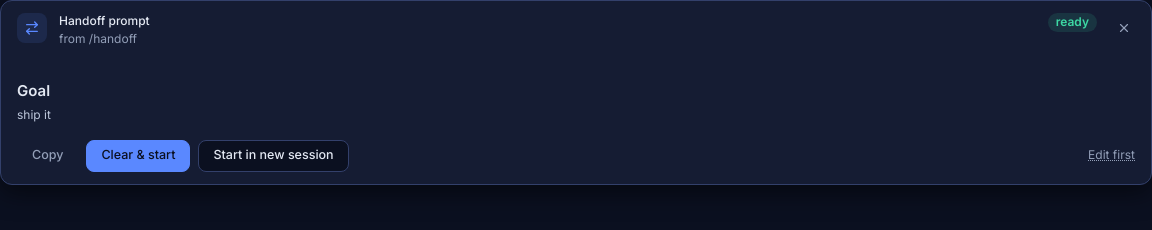
Test case: HandoffCardView › a branch whose window never shows up reports it instead of doing nothing
Click the button "Start in new session". click: (274, 156)
box: [198,140,349,172]
Wait 2000 ms
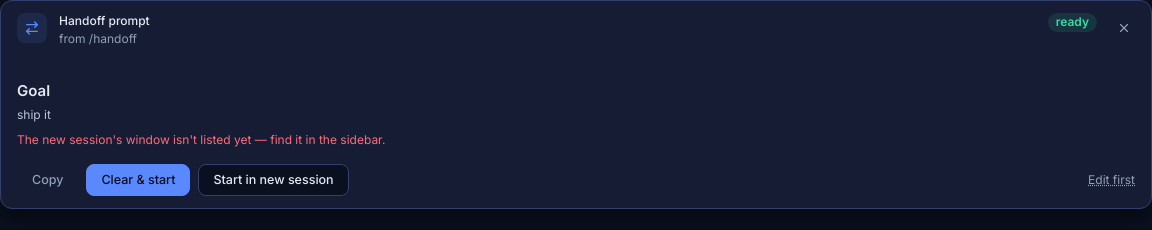
Now the message with test id "handoff-notice" shows "isn't listed yet", box [17,132,385,147]
